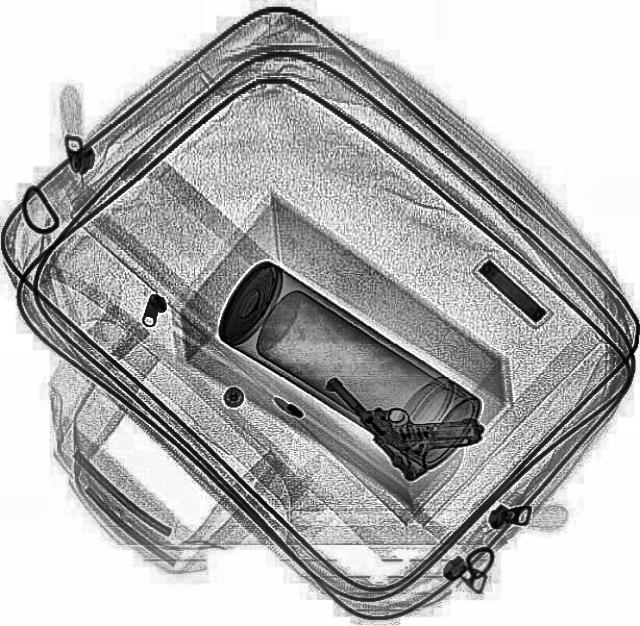Gun: (321, 328, 491, 488)
